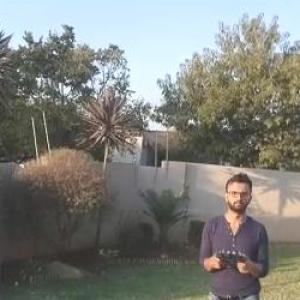follow: (194, 168, 272, 299)
